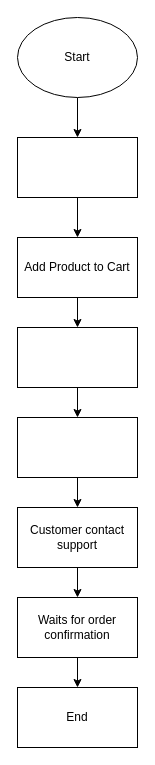
This 155x765 diagram has some shape labels left out. Each missing label, with the centre of its shape:
Attempts Payment: (77,357)
Customer Select Product: (77,167)
Payment Status is unclear: (77,447)
